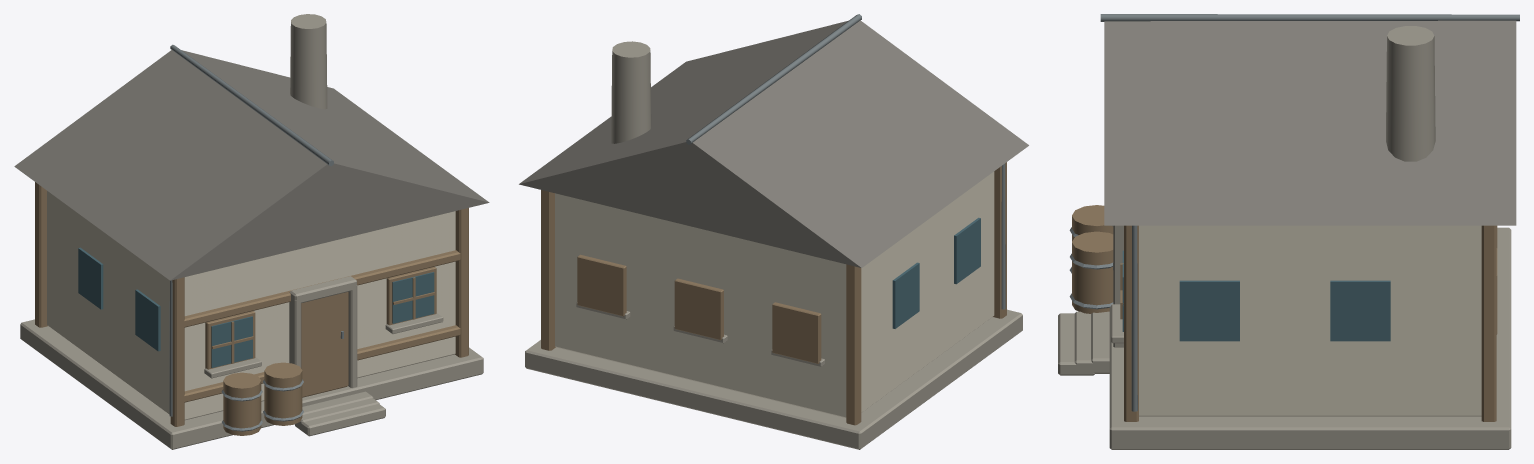
File: bld_atelier_a01.glb
The picture shows the model from 3 angles, left to right: view 1: azimuth 30°, elevation 25°; view 2: azimuth 150°, elevation 25°; view 3: azimuth 270°, elevation 25°; orthographic projection. The views are drawn at different scales.
Visible parts, largest first — view 1: bld_atelier_a01; view 2: bld_atelier_a01; view 3: bld_atelier_a01.
Boxes of the visible parts, left/top/right/bottom form: bld_atelier_a01: left=14, top=14, right=489, bottom=449; bld_atelier_a01: left=519, top=14, right=1028, bottom=449; bld_atelier_a01: left=1058, top=14, right=1519, bottom=449.
Size of the model in its own units: 3.88 by 3.31 by 3.68.
